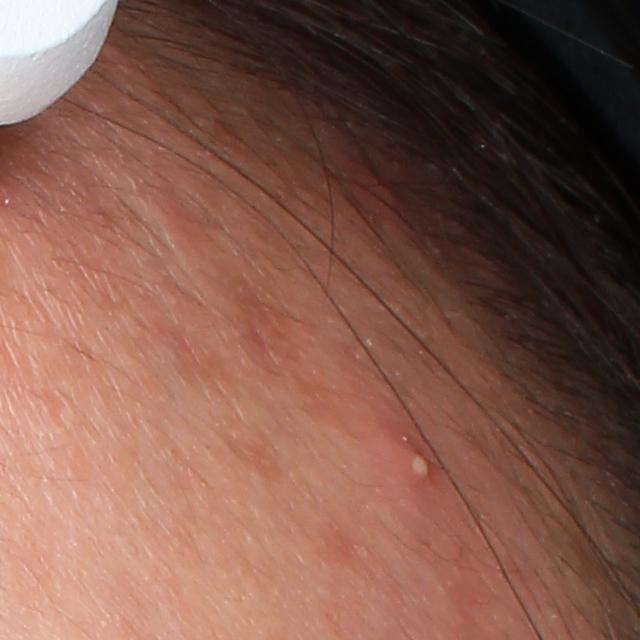pustule: (367, 426, 448, 493)
